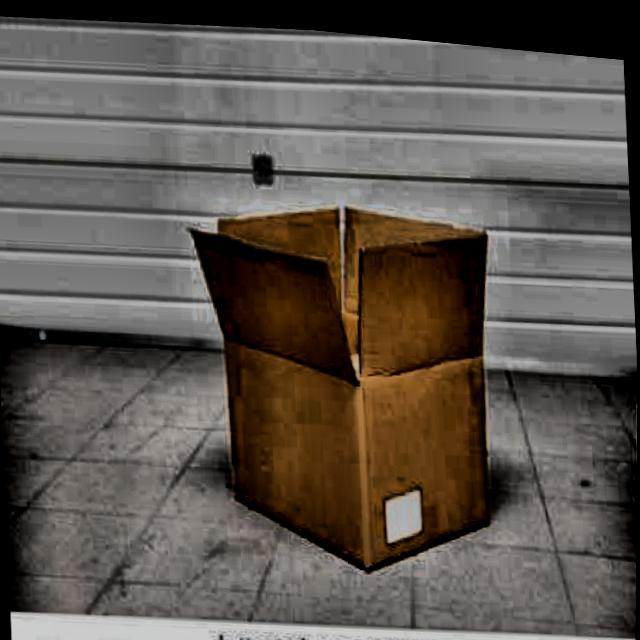Cardbox: (187, 182, 505, 589), (253, 147, 273, 180)
